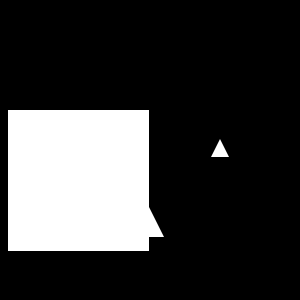circle: (8, 110, 149, 251)
triangle: (112, 185, 164, 237), (211, 139, 229, 157)
